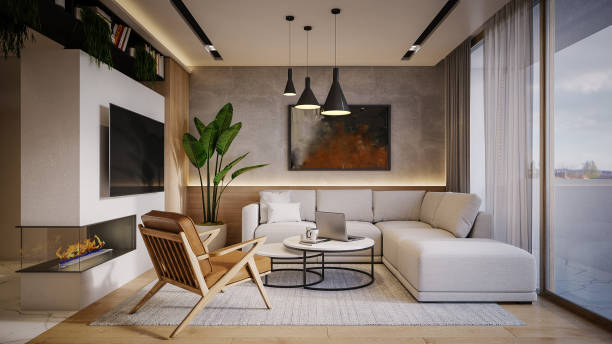TV: (106, 101, 166, 199)
chair: (127, 209, 273, 338)
large plant: (180, 99, 271, 251)
sofa: (239, 187, 538, 304)
table: (282, 226, 378, 293), (254, 232, 326, 289)
wall art: (285, 101, 391, 172)
